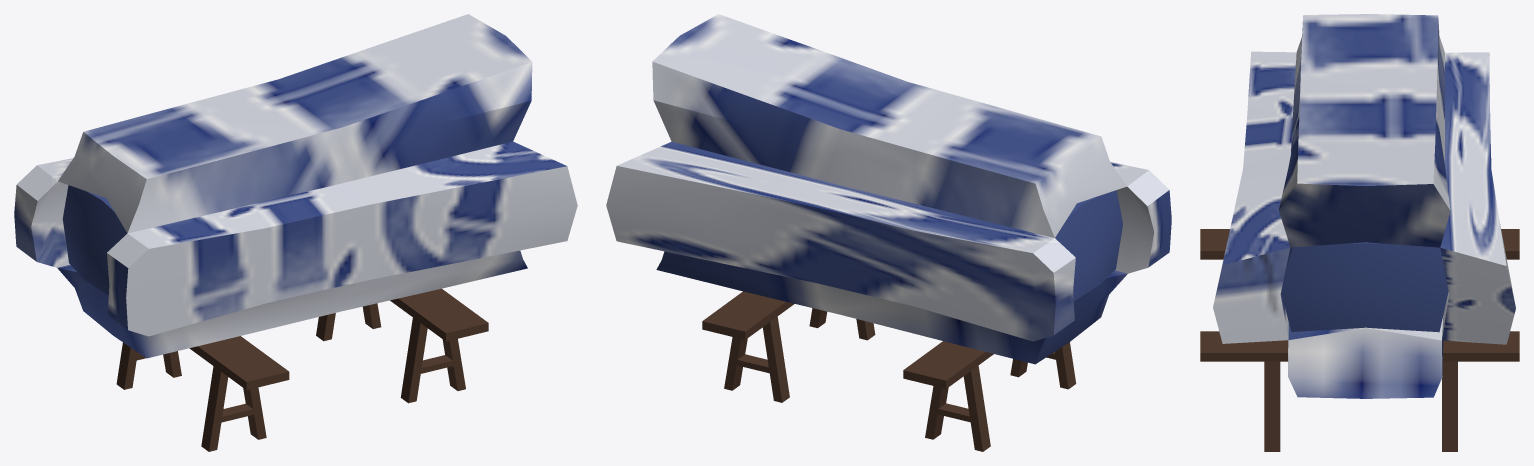
Rendered from coffin.fbx.
3 views of the same model, side by side, from view 1: azimuth 30°, elevation 25°; view 2: azimuth 150°, elevation 25°; view 3: azimuth 270°, elevation 25° (orthographic). The views are drawn at different scales.
Parts seen in each view (by area): view 1: coffin; view 2: coffin; view 3: coffin.
Part boxes in pixels (<box>): coffin: <box>14,14,577,451</box>; coffin: <box>606,14,1171,451</box>; coffin: <box>1200,14,1519,451</box>.
Bounding box in the file's own units: 6.58 × 4.28 × 3.98.
